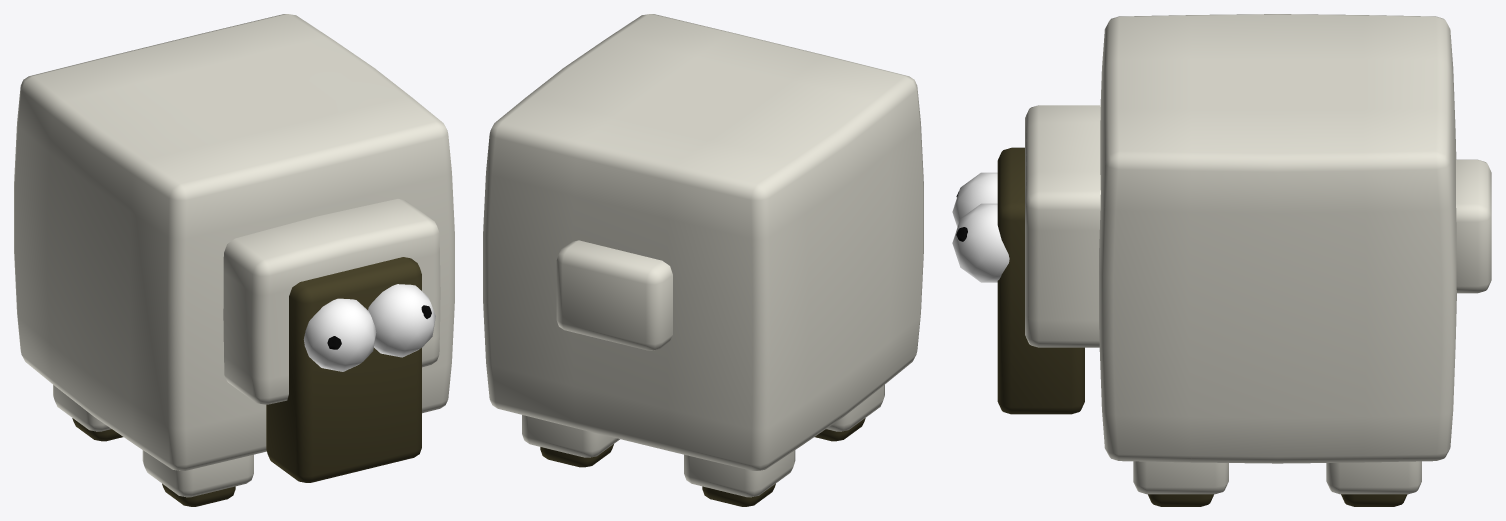
File: Sheep Model.fbx
3 renders of one model, left to right at view 1: azimuth 30°, elevation 25°; view 2: azimuth 150°, elevation 25°; view 3: azimuth 270°, elevation 25°, orthographic. The views are drawn at different scales.
Parts seen in each view (by area): view 1: Sheep; view 2: Sheep; view 3: Sheep.
Boxes of the visible parts, <box> form: Sheep: <box>14,14,454,506</box>; Sheep: <box>483,14,923,506</box>; Sheep: <box>952,14,1491,506</box>.
Bounding box in the file's own units: 216 × 240 × 316.
1 material, 1 textured.
